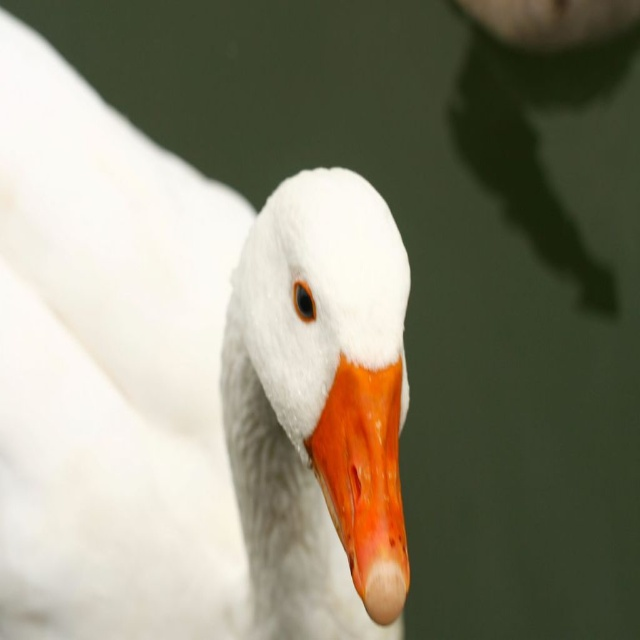Duck: (0, 0, 412, 639)
